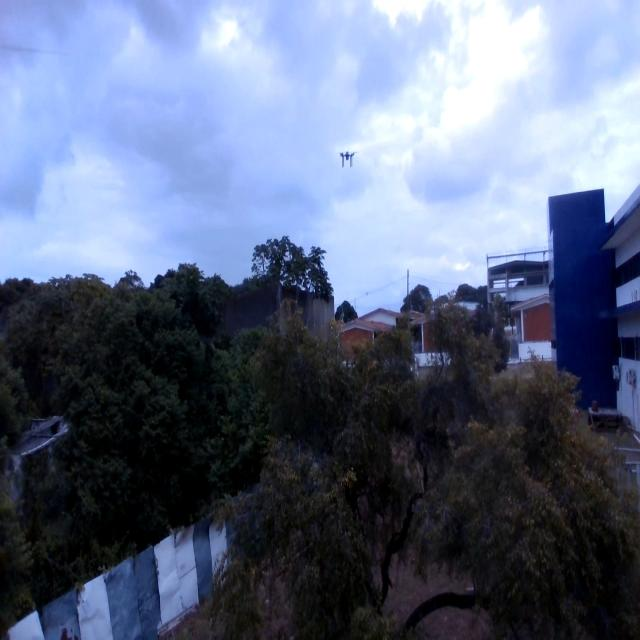-uav-: (337, 140, 352, 174)
